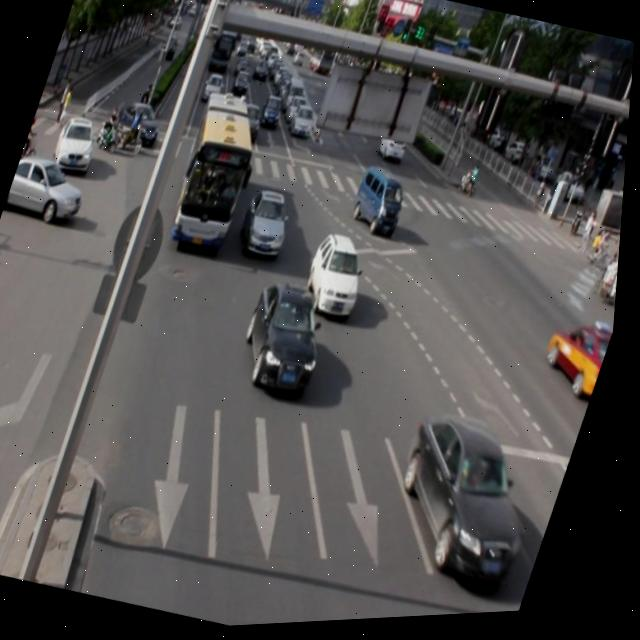car: (380, 408, 563, 595), (235, 276, 345, 405), (299, 230, 380, 325), (537, 317, 620, 404), (236, 187, 302, 266)
truck: (348, 166, 415, 242)
van: (165, 90, 273, 254)
